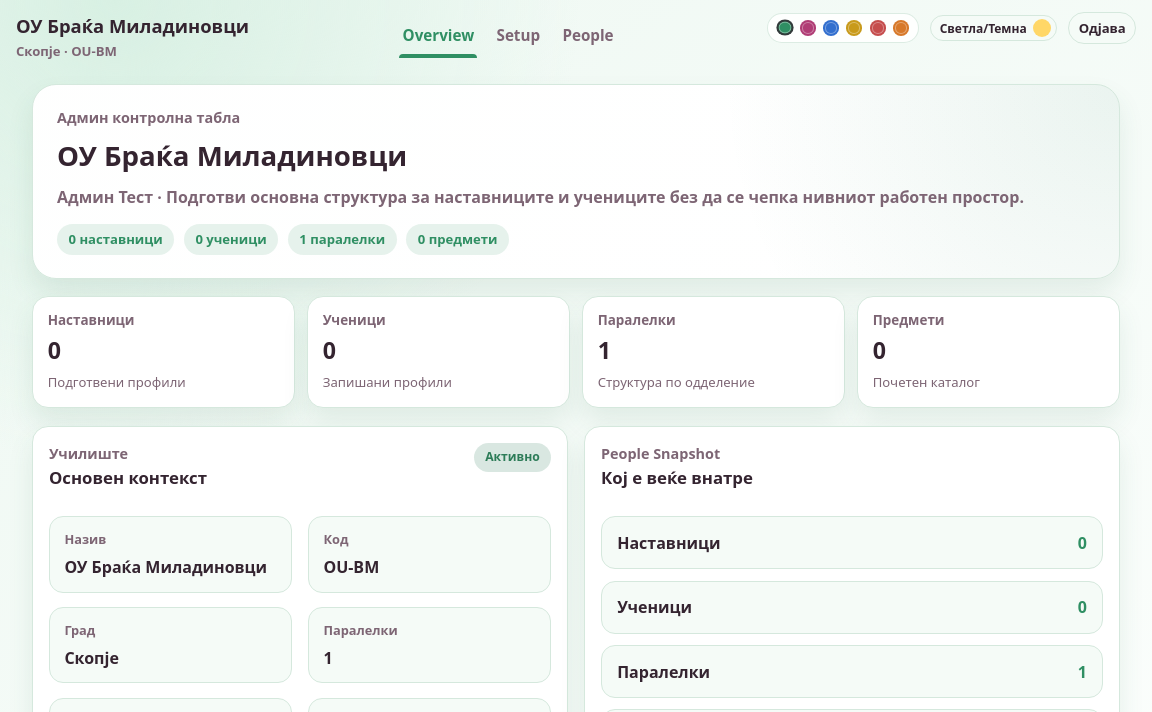
Test: setup classroom list uses classroom membership arrays for student counts
The image size is (1152, 712).
Click the button "Setup".
click(518, 36)  # box [493,14,543,58]
(page scrolled)
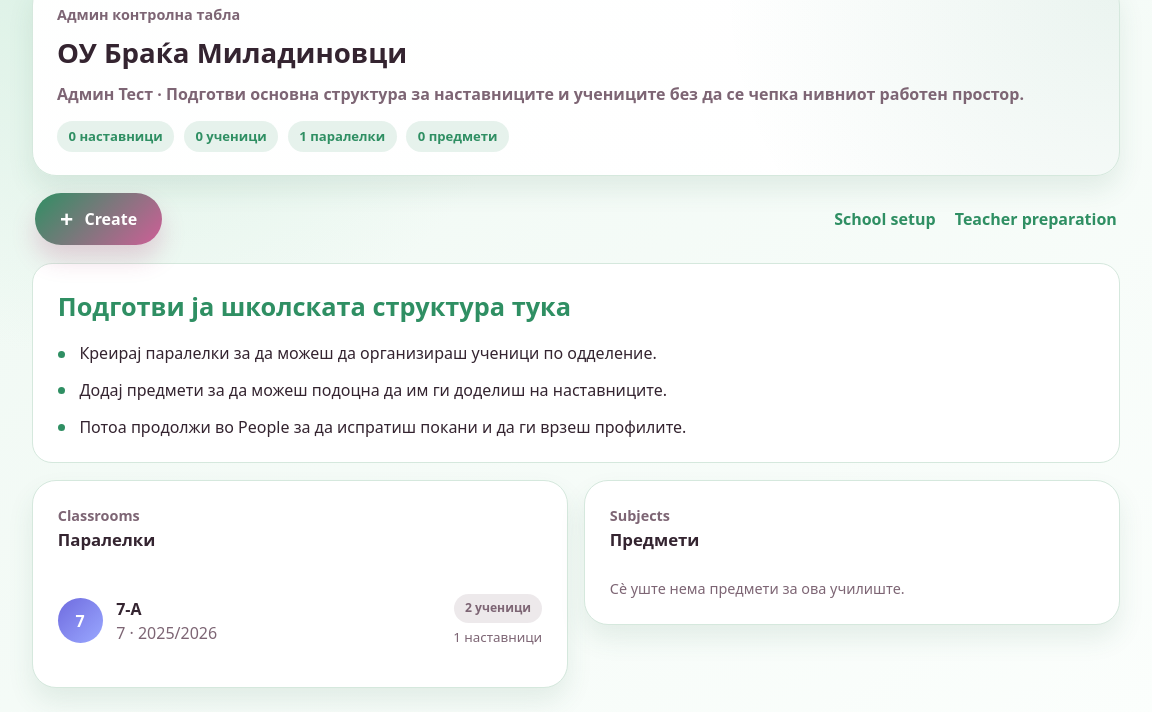
Expected: the text "2 ученици" is shown, [454,594,542,623]
Expected: the text "1 наставници" is shown, [453,628,542,648]
